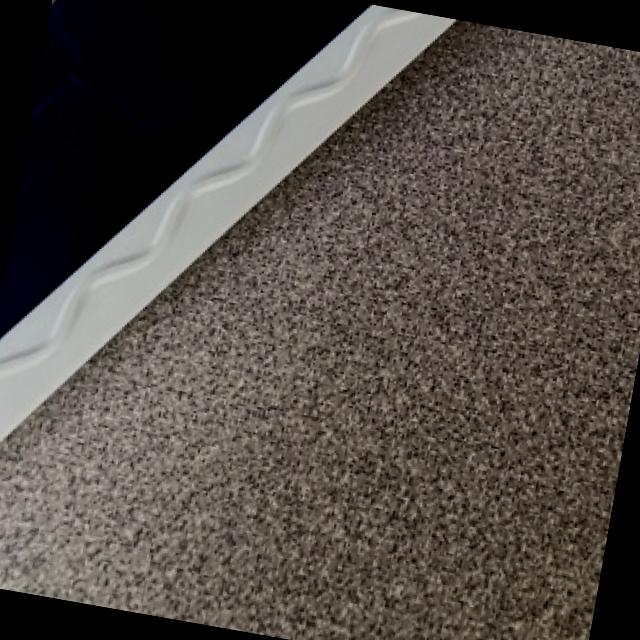healthy: (0, 20, 640, 640)
